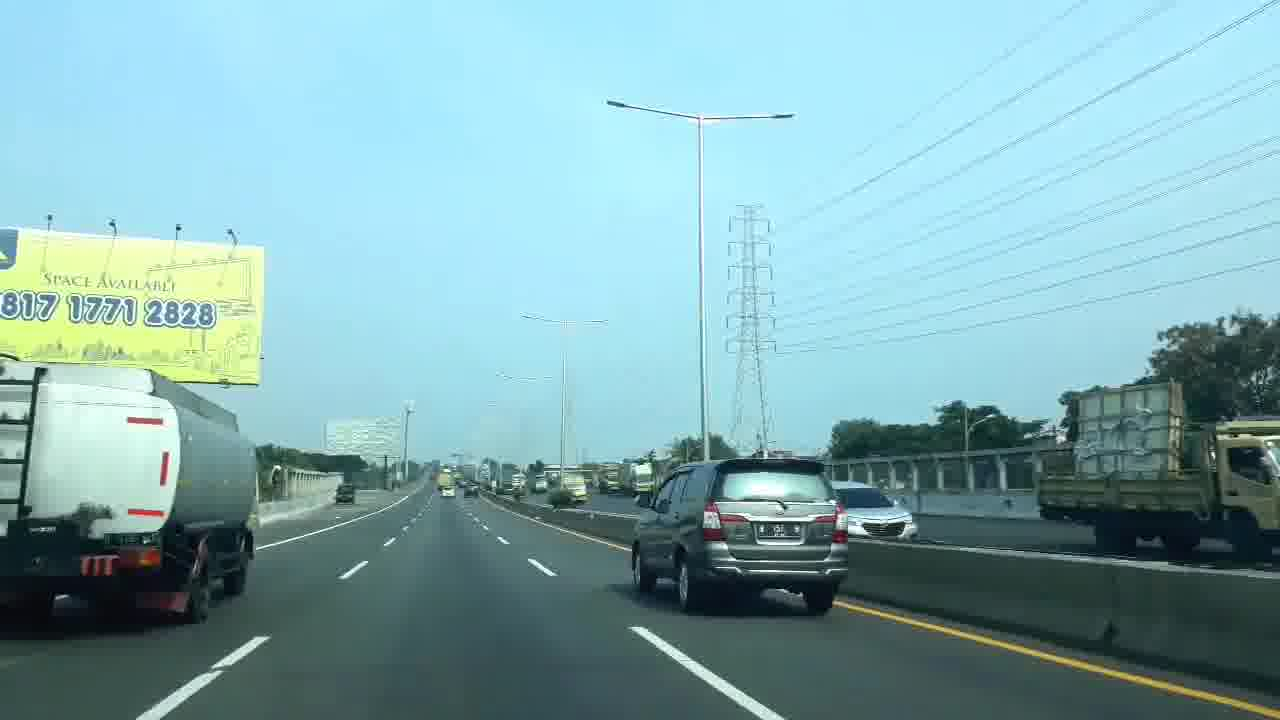plate_positive: (757, 523, 801, 540)
